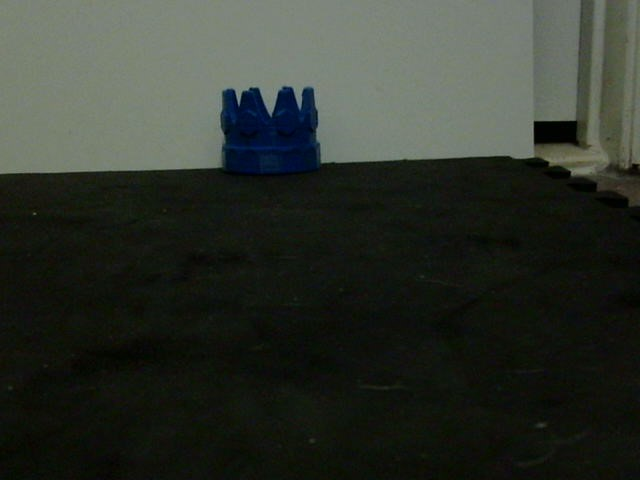crown: (218, 87, 323, 171)
